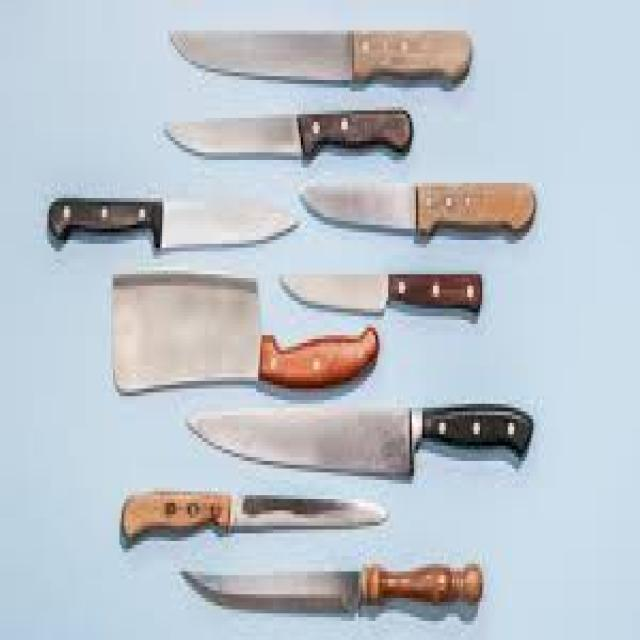Knife: (111, 270, 378, 392), (186, 400, 533, 476), (168, 27, 472, 88), (179, 560, 482, 613), (120, 488, 388, 544), (296, 175, 536, 236), (47, 194, 299, 248), (162, 107, 412, 160), (277, 270, 482, 312)
